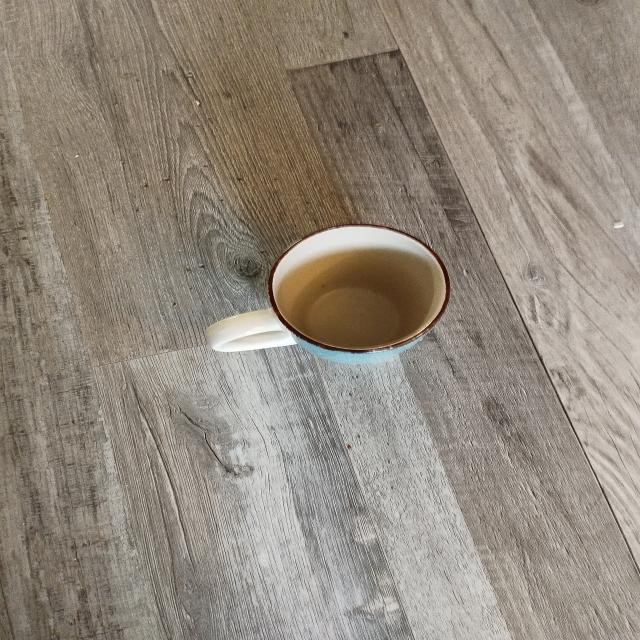Cup: (188, 217, 474, 377)
